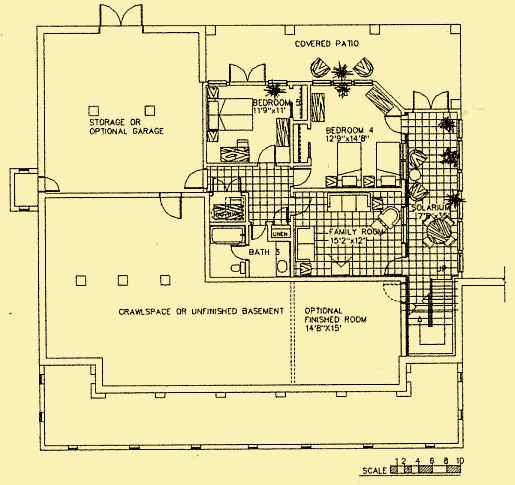bed: (202, 95, 255, 134), (335, 141, 365, 190), (375, 142, 404, 188)
door: (98, 2, 145, 30), (226, 61, 266, 85), (158, 187, 184, 223), (411, 88, 451, 109), (290, 167, 316, 190), (36, 174, 63, 194), (257, 145, 279, 169), (183, 169, 207, 190)
large_sink: (227, 260, 248, 275)
large_sofa: (327, 192, 373, 216), (296, 223, 317, 264)
round_table: (419, 211, 457, 246)
small_sink: (272, 240, 291, 277)
small_sofa: (379, 205, 401, 229)
stairs: (409, 279, 455, 355)
tub: (209, 224, 247, 246)
